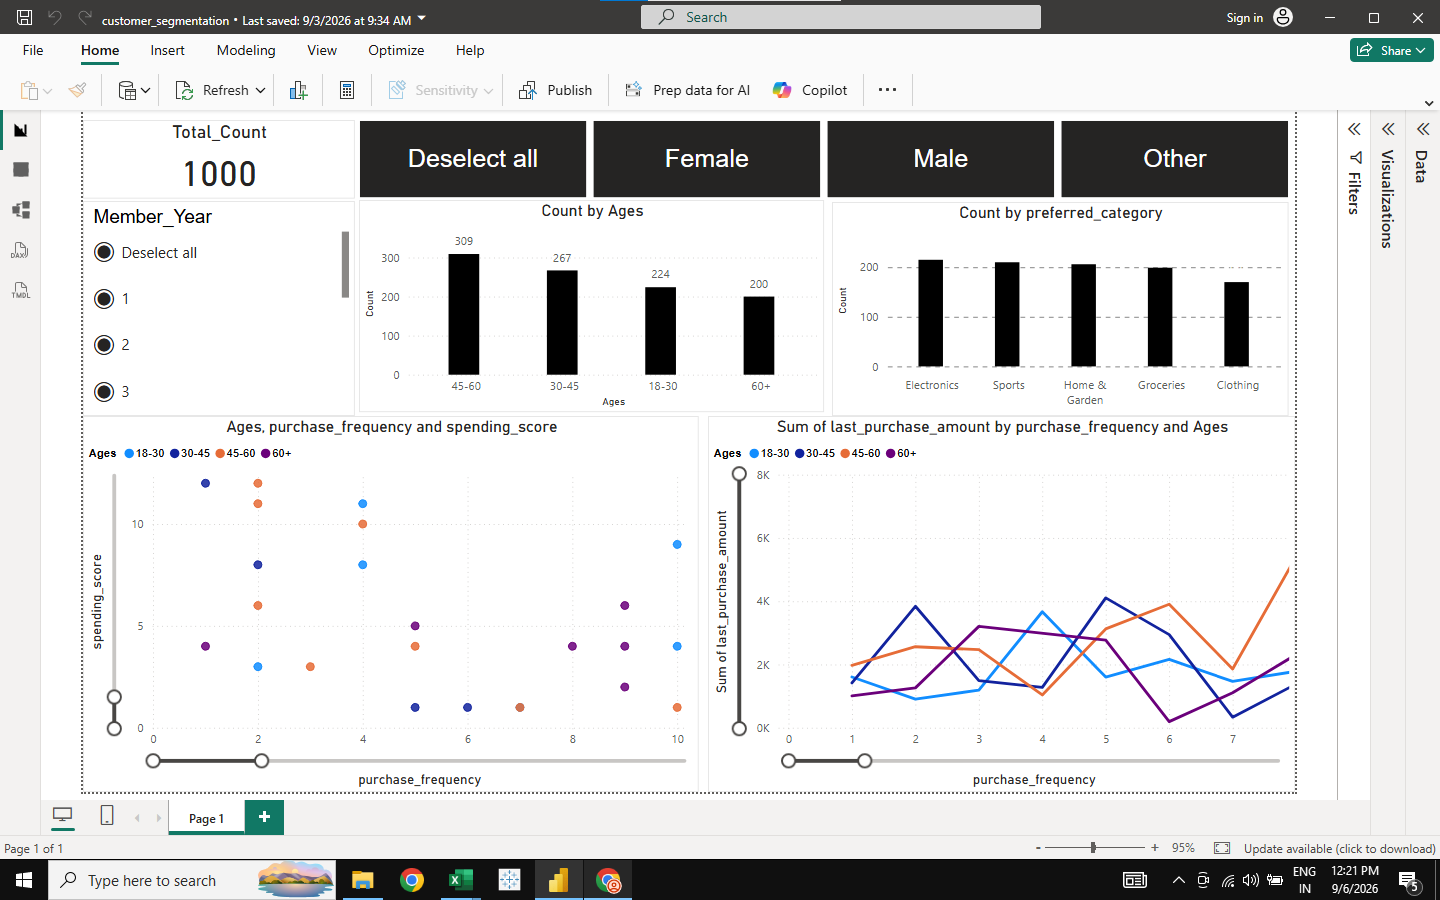

The dashboard page shown, as its layout file describes it:
{"tool":"powerbi","page":{"name":"Page 1","canvas":[1280,720],"ordinal":0},"visuals":[{"type":"card","title":"Total_Count","fields":{"Values":["Measure.Total_order"]},"box":[0,10.2,286.8,83.1],"z":0},{"type":"advancedSlicerVisual","fields":{"Values":["customer_segmentation_data.gender"]},"box":[286.9,6.4,993.1,91.8],"z":1000},{"type":"clusteredColumnChart","fields":{"Category":["customer_segmentation_data.Ages"],"Y":["Measure.Count"]},"box":[291,95.5,491,224.4],"z":2000},{"type":"listSlicer","title":"Member_Year","fields":{"Values":["customer_segmentation_data.membership_years"]},"box":[0,95.7,287.1,227.1],"z":3000},{"type":"clusteredColumnChart","fields":{"Y":["Measure.Count"],"Category":["customer_segmentation_data.preferred_category"]},"box":[790.6,96.6,481.6,225.6],"z":4000},{"type":"scatterChart","fields":{"Series":["customer_segmentation_data.Ages"],"Y":["customer_segmentation_data.spending_score"],"X":["customer_segmentation_data.purchase_frequency"]},"box":[0,322.9,650,397.1],"z":5000},{"type":"lineChart","fields":{"Category":["customer_segmentation_data.purchase_frequency"],"Series":["customer_segmentation_data.Ages"],"Y":["Sum(customer_segmentation_data.last_purchase_amount)"]},"box":[660,322.9,620,397.1],"z":5001}]}

Visuals, with their boxes on the page's 1280x720 design canvas (x1, y1, x2, y2). These are canvas units, not pixel positions in the 1440x900 screenshot, which may show the page scaled, cropped or inside an application window:
"Total_Count" card: 0,10,287,93
advancedSlicerVisual - customer_segmentation_data.gender: 287,6,1280,98
clusteredColumnChart - customer_segmentation_data.Ages x Measure.Count: 291,96,782,320
"Member_Year" listSlicer: 0,96,287,323
clusteredColumnChart - Measure.Count x customer_segmentation_data.preferred_category: 791,97,1272,322
scatterChart - customer_segmentation_data.Ages x customer_segmentation_data.spending_score: 0,323,650,720
lineChart - customer_segmentation_data.purchase_frequency x customer_segmentation_data.Ages: 660,323,1280,720
